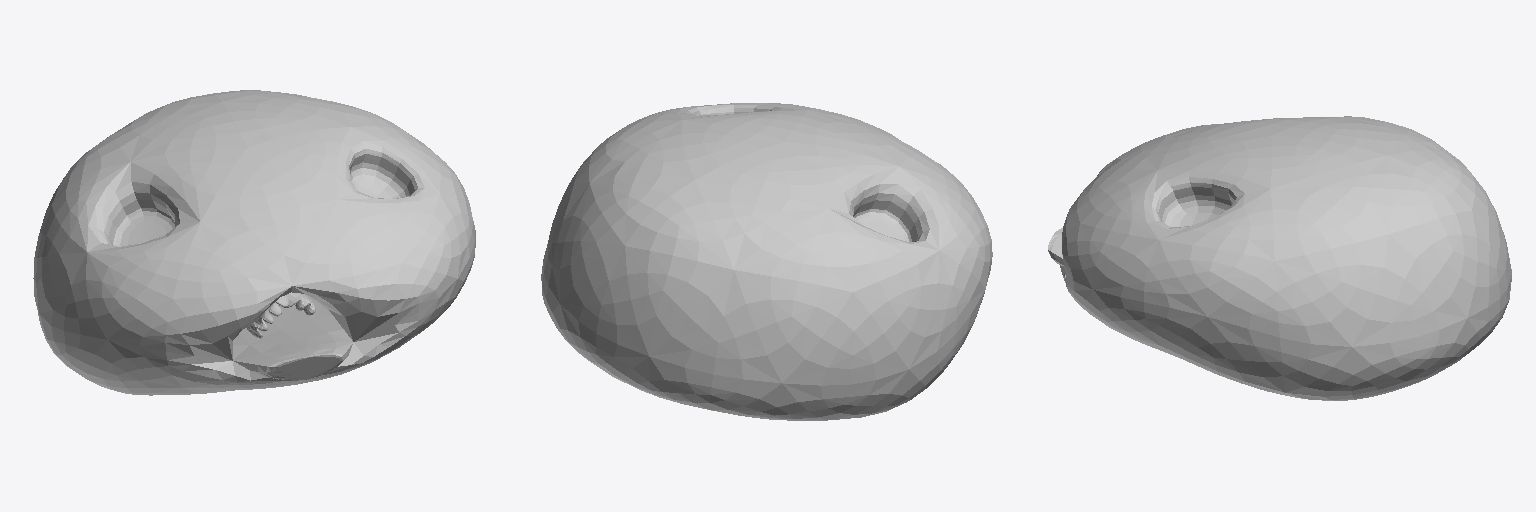
File: fossil_fish.obj
The picture shows the model from 3 angles: view 1: azimuth 30°, elevation 25°; view 2: azimuth 150°, elevation 25°; view 3: azimuth 270°, elevation 25°; orthographic projection.
Visible parts, largest first — view 1: Icosphere; view 2: Icosphere; view 3: Icosphere.
Part boxes in pixels (bbox=[...]): Icosphere: bbox=[33, 90, 475, 395]; Icosphere: bbox=[541, 103, 992, 420]; Icosphere: bbox=[1048, 116, 1511, 400].
Bounding box in the file's own units: 1.24 × 0.7317 × 1.31.